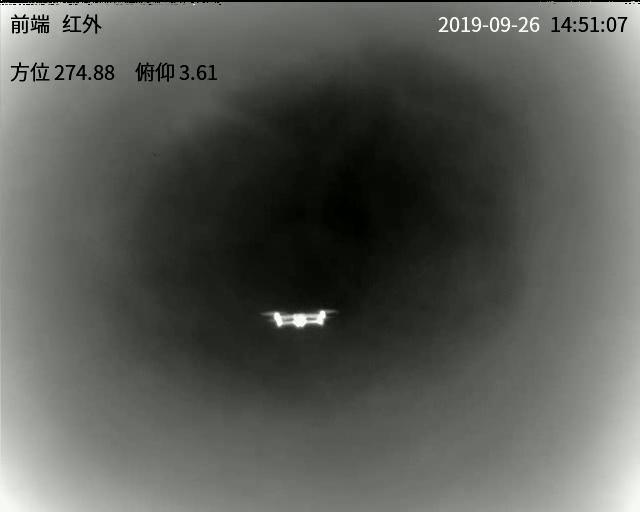DRONE: (264, 310, 336, 328)
